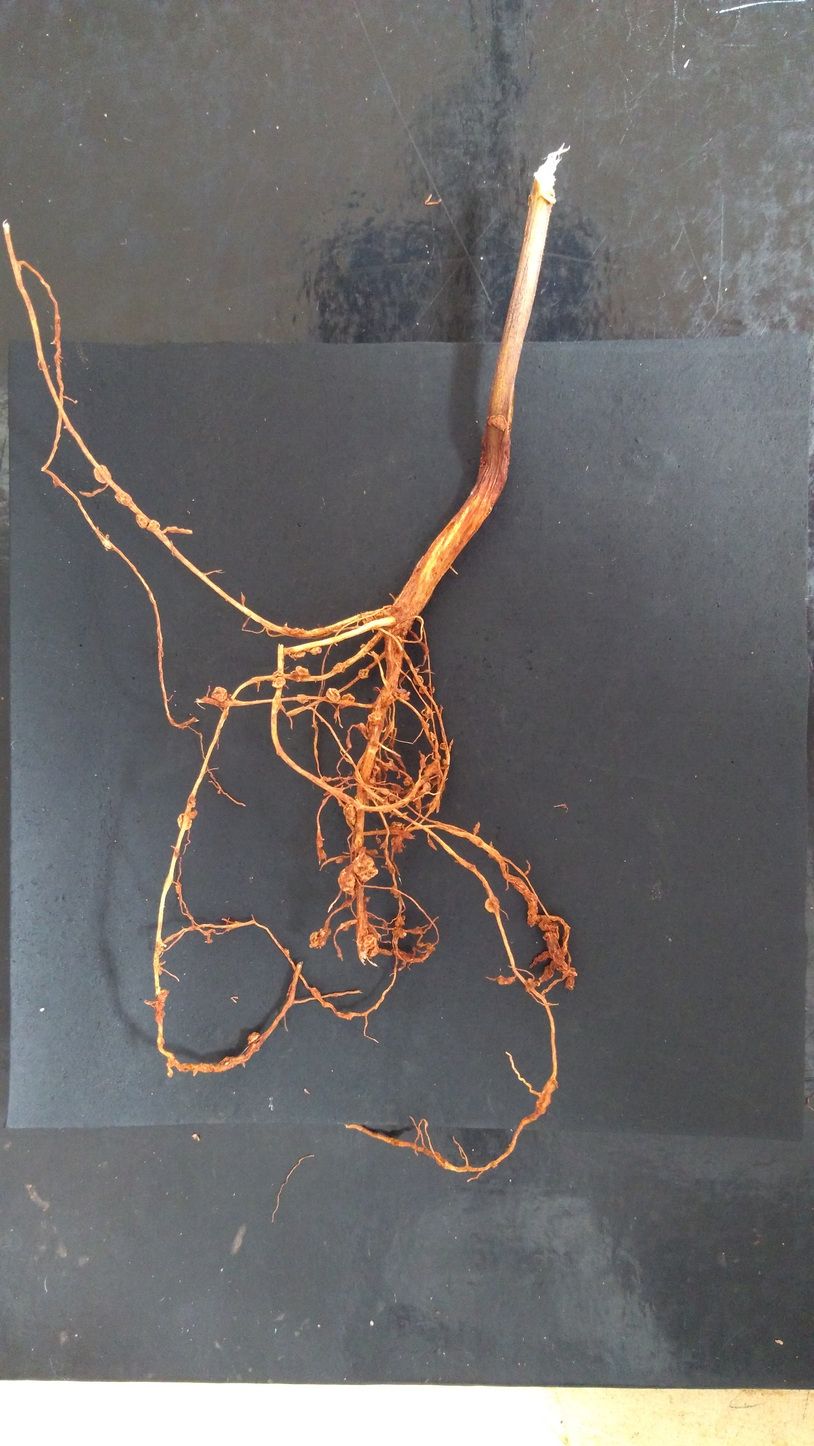nodule: (352, 853, 378, 883), (338, 864, 357, 896), (359, 933, 380, 958), (308, 927, 331, 949), (342, 799, 356, 825), (93, 465, 111, 484), (114, 490, 133, 507), (270, 671, 287, 689), (247, 1031, 261, 1052), (211, 686, 228, 702), (484, 896, 500, 913), (367, 711, 385, 726), (537, 920, 559, 932), (177, 813, 192, 830), (538, 965, 553, 982), (524, 978, 540, 993), (341, 693, 355, 709), (146, 519, 161, 533), (326, 688, 340, 702), (135, 514, 148, 529), (533, 951, 549, 963), (391, 927, 407, 939), (361, 612, 375, 625), (296, 665, 311, 677), (397, 688, 410, 701), (497, 976, 515, 985), (542, 931, 560, 940), (288, 650, 307, 658), (371, 763, 380, 779), (394, 915, 406, 927), (420, 781, 431, 794), (565, 975, 575, 989), (333, 662, 345, 673), (296, 693, 309, 703), (358, 668, 369, 679), (413, 674, 424, 685), (341, 920, 351, 932), (309, 646, 322, 655), (425, 705, 433, 719), (403, 776, 413, 787), (373, 609, 384, 619), (384, 761, 395, 771), (390, 821, 403, 829), (429, 731, 437, 742), (418, 685, 427, 694), (189, 809, 197, 819), (189, 799, 197, 809), (359, 722, 367, 731), (335, 856, 344, 864), (439, 742, 447, 751), (283, 947, 290, 957), (321, 776, 332, 782), (175, 883, 181, 894), (388, 794, 396, 802), (428, 686, 435, 694), (370, 777, 376, 784), (360, 643, 366, 649), (442, 758, 447, 765)
